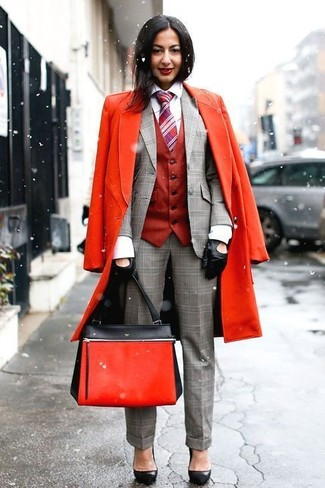tie: (150, 86, 182, 153)
